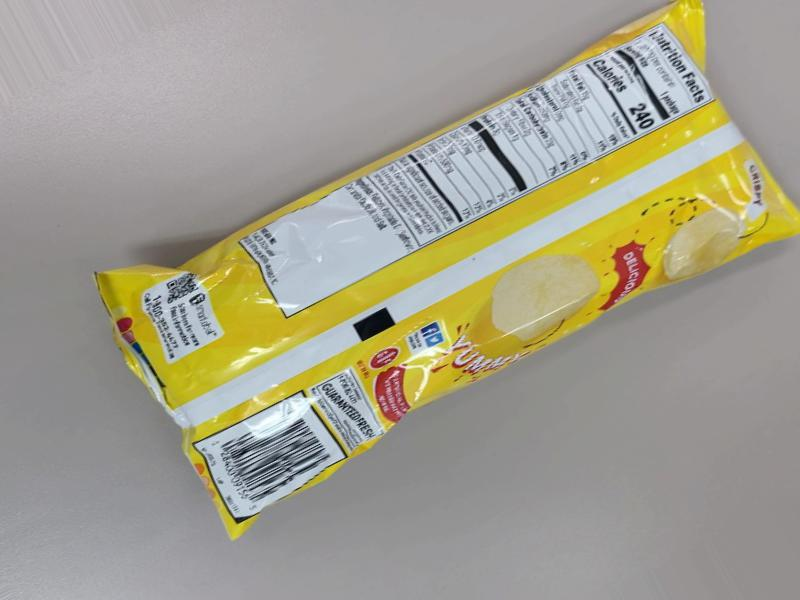lays: (78, 1, 800, 580)
